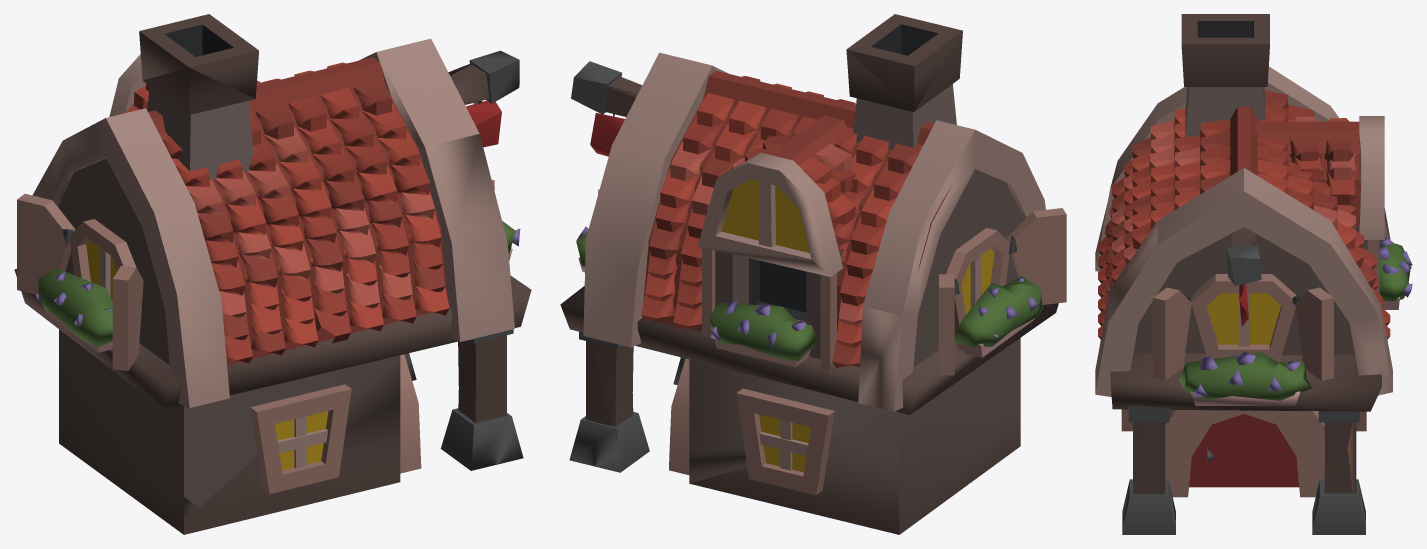
Rendered from rn_house_b.glb.
3 renders of one model, left to right at view 1: azimuth 30°, elevation 25°; view 2: azimuth 150°, elevation 25°; view 3: azimuth 270°, elevation 25°, orthographic. The views are drawn at different scales.
Parts seen in each view (by area): view 1: rn_house_b; view 2: rn_house_b; view 3: rn_house_b.
Boxes of the visible parts, x1,y1,x2,y2 form: rn_house_b: [14, 14, 531, 534]; rn_house_b: [560, 14, 1066, 534]; rn_house_b: [1095, 14, 1412, 534].
Bounding box in the file's own units: 9.38 × 8.65 × 6.37.
